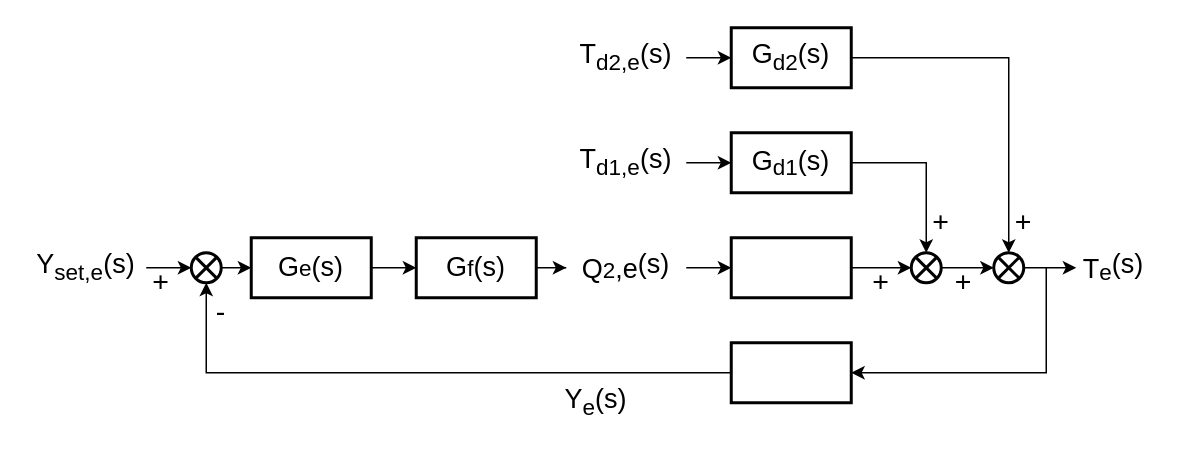
This 1199x458 diagram has some shape labels left out. The centre of each missing label's shape, as x and y in pixels:
G m (s): (790,372)
G p (s): (790,267)
